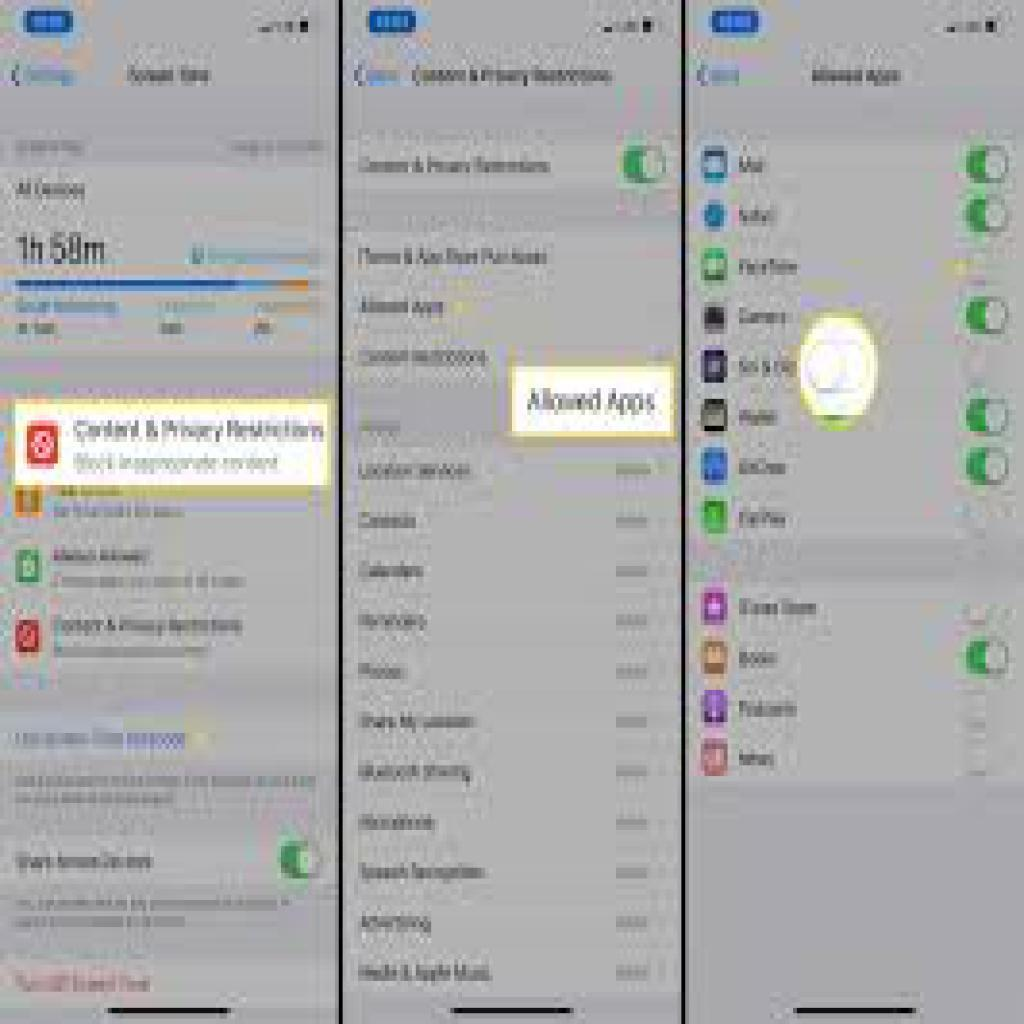switch: (621, 145, 674, 190), (279, 837, 326, 885), (965, 396, 1014, 441), (964, 449, 1014, 492), (965, 299, 1017, 339), (964, 198, 1014, 237), (965, 145, 1010, 186), (966, 640, 1014, 678)
